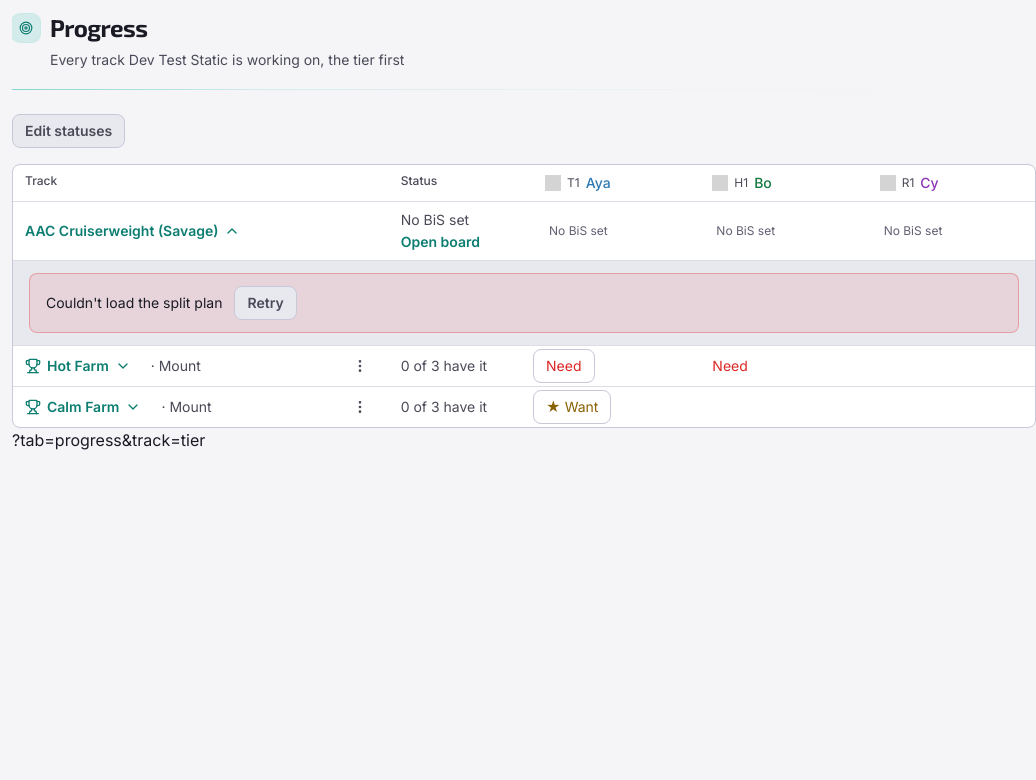
ProgressPage tier panel when the split plan fails › a rejected GET shows "Couldn't load the split plan" with Retry, which refetches and then shows the planner; a failed toggleMode never does
The width and height of the screenshot is (1036, 780).
Expected: the row with test id "progress-tier-expansion" is shown, [13,260,1035,346]
Expected: the text "Couldn't load the split plan" is shown, [46,293,222,313]
What coordinates should you click on to do the following:
click the button "Retry"
I would click on:
 (266, 303)
Its box is [234,286,297,320].
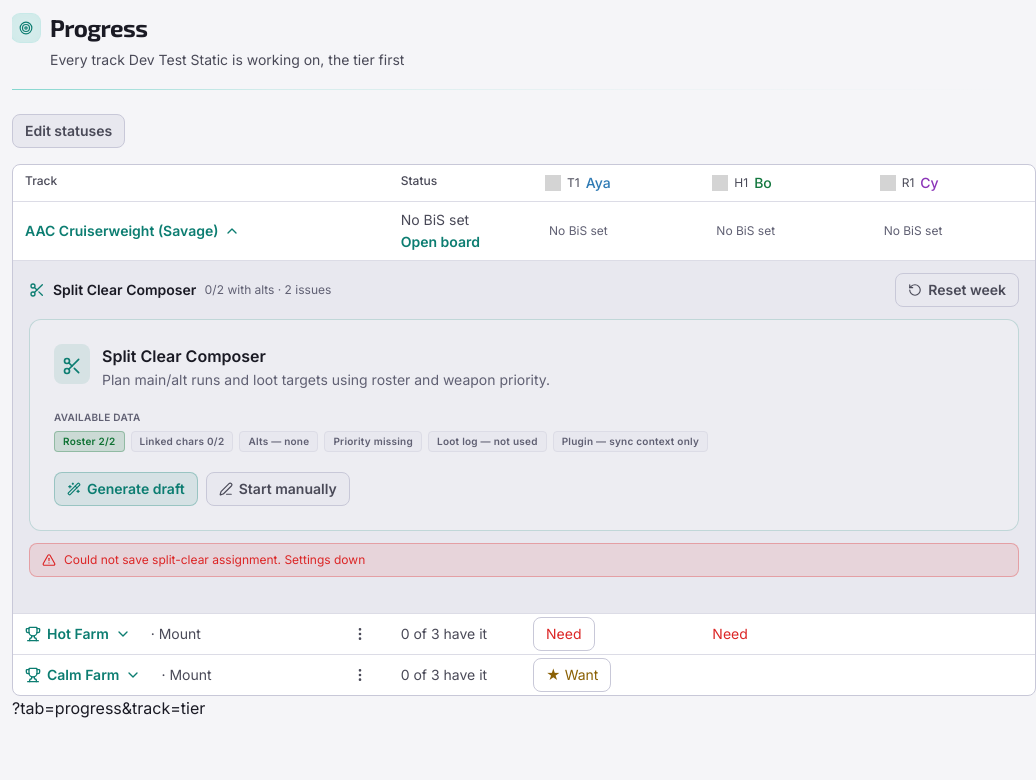
Now the text "Couldn't load the split plan" is gone
Now the heading "Split Clear Composer" is shown, box [102,346,266,366]
